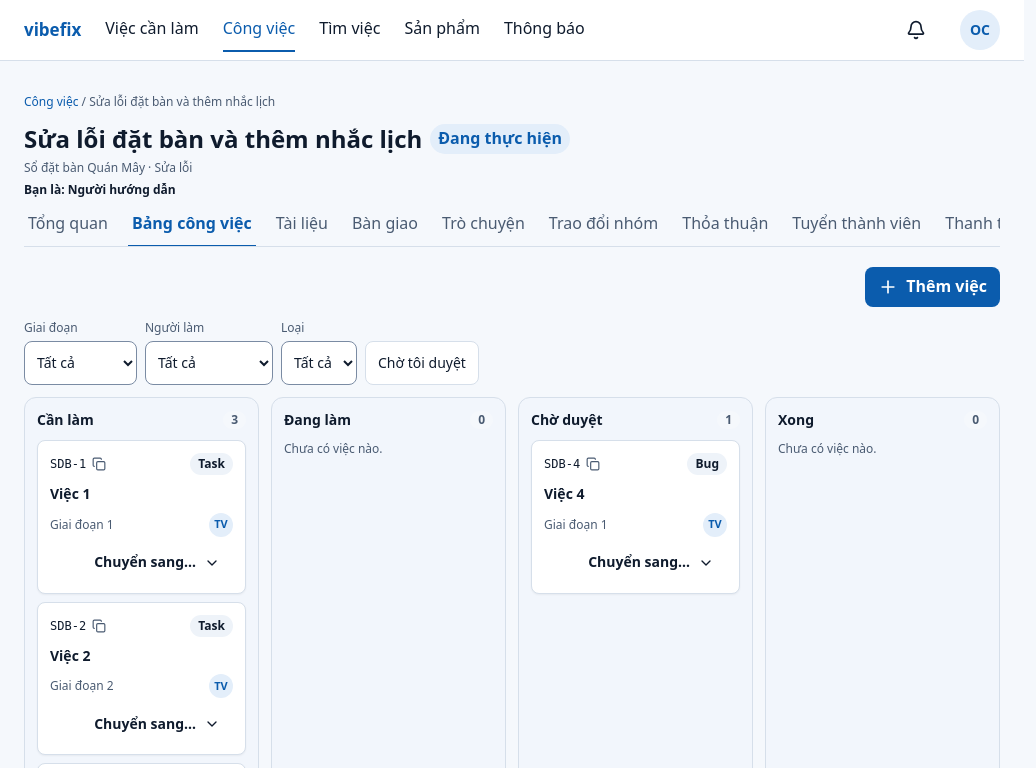
Test case: Board moves on JOB-2 (FR-24, AD-39, UX-DR36, UX-DR37) › gives the Mentor "Chờ tôi duyệt" and starts phones on "Chờ duyệt"
Click the button "Chờ tôi duyệt" at (422, 363), box x1=365 y1=341 x2=479 y2=385
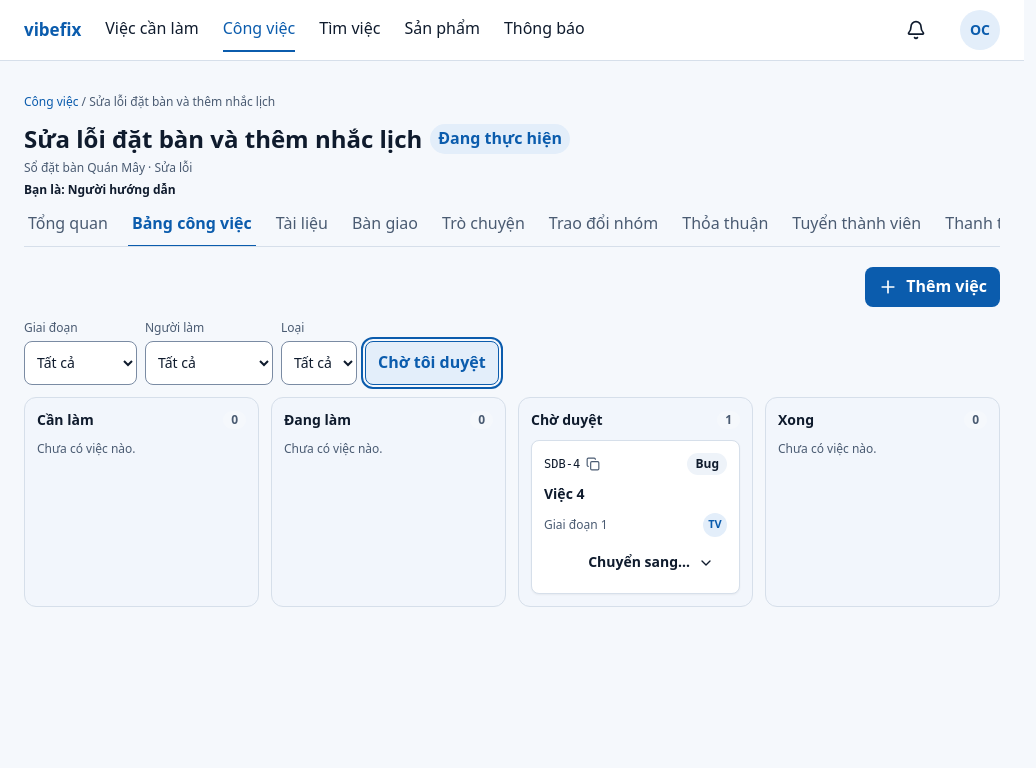
Expected: the button "Việc 4" is shown, x1=544 y1=483 x2=727 y2=505
Result: the button "Việc 1" is gone
